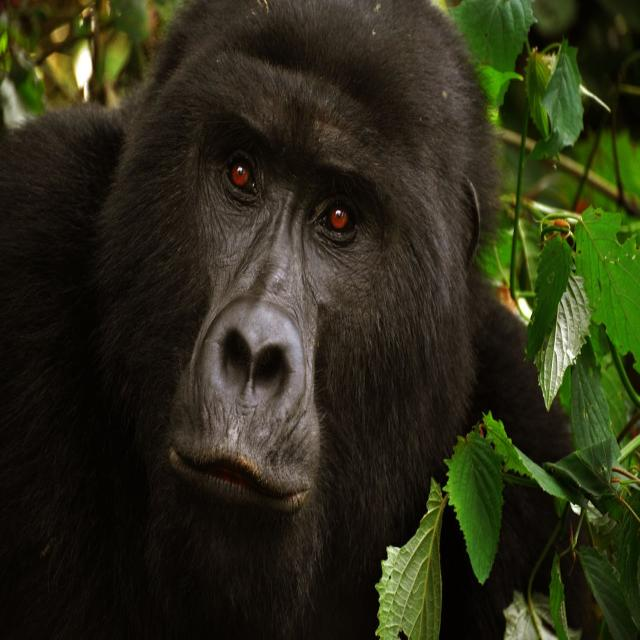Gorilla: (0, 0, 583, 640)
